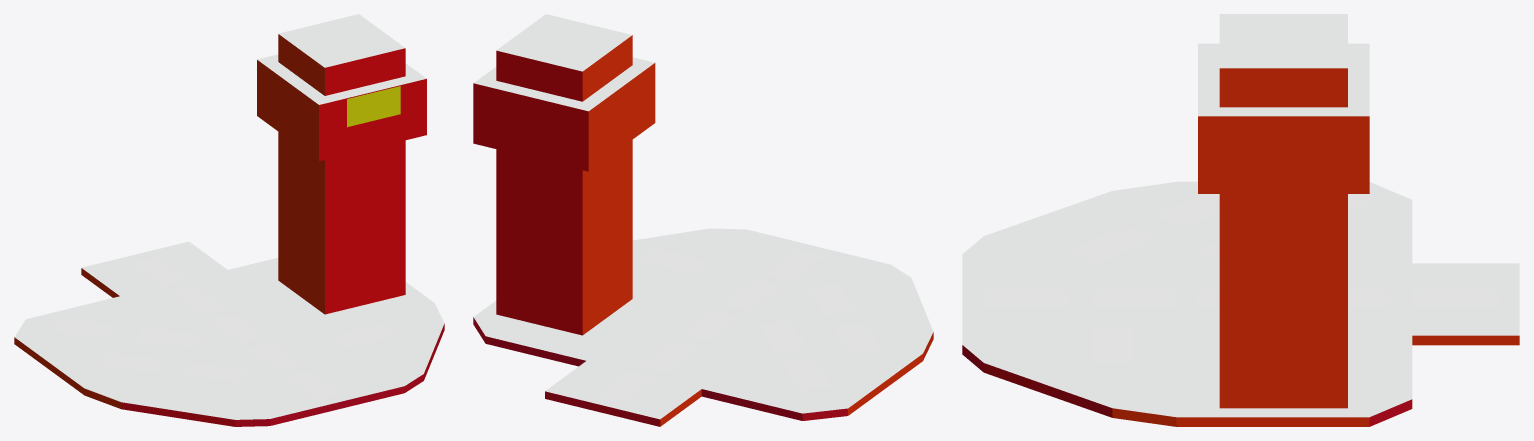
Rendered from Airport.OrangeStar.Snow.glb.
3 renders of one model, left to right at view 1: azimuth 30°, elevation 25°; view 2: azimuth 150°, elevation 25°; view 3: azimuth 270°, elevation 25°, orthographic. The views are drawn at different scales.
Visible parts, largest first — view 1: Airport.OrangeStar.Snow; view 2: Airport.OrangeStar.Snow; view 3: Airport.OrangeStar.Snow.
Boxes of the visible parts, box(x1,y1,x2,y2) form: Airport.OrangeStar.Snow: box(14, 14, 444, 426); Airport.OrangeStar.Snow: box(473, 14, 933, 426); Airport.OrangeStar.Snow: box(962, 14, 1519, 426).
Bounding box in the file's own units: 2.6 × 1.8 × 2.6.
Materials: 2 (1 with a texture image).
